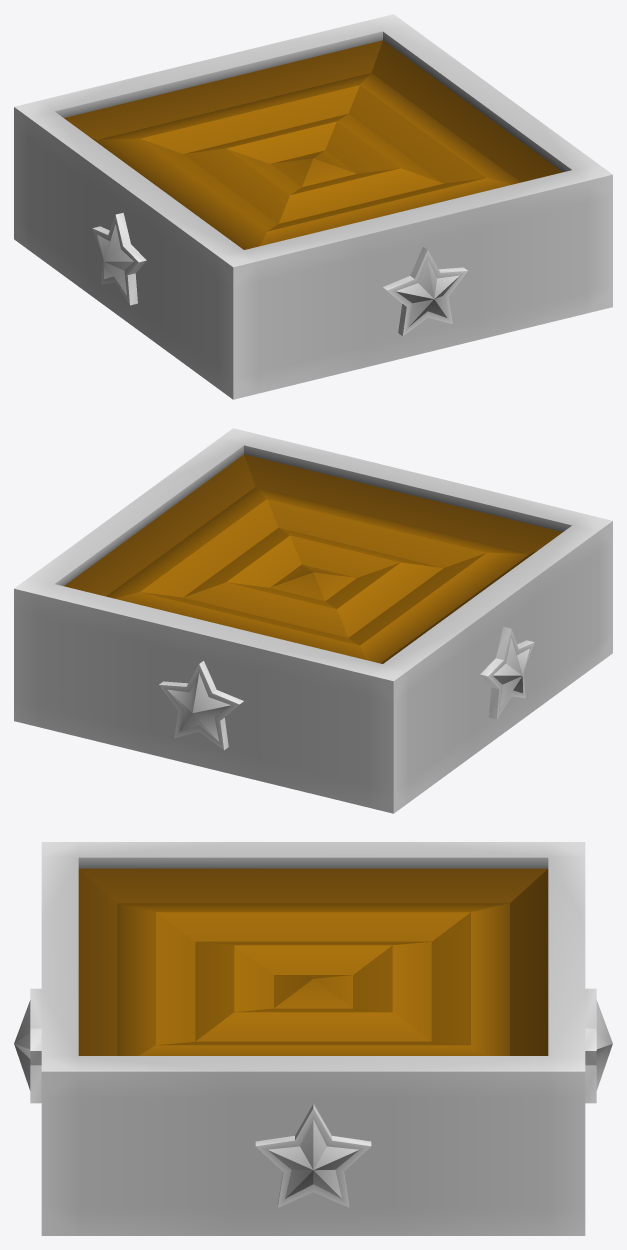
The model's file is obj_dekotora_floorsquare02.fbx.
The picture shows the model from 3 angles, top to bottom: view 1: azimuth 30°, elevation 25°; view 2: azimuth 150°, elevation 25°; view 3: azimuth 270°, elevation 25°; orthographic projection. The views are drawn at different scales.
Parts seen in each view (by area): view 1: Cube.070, Cube.035; view 2: Cube.070, Cube.035; view 3: Cube.070, Cube.035.
Boxes of the visible parts, x1,y1,x2,y2 form: Cube.070: (14,14,612,399); Cube.035: (64,40,562,249); Cube.070: (14,428,612,813); Cube.035: (64,454,562,663); Cube.070: (14,842,612,1235); Cube.035: (78,868,548,1055).
Bounding box in the file's own units: 3.31 × 1 × 3.31.
